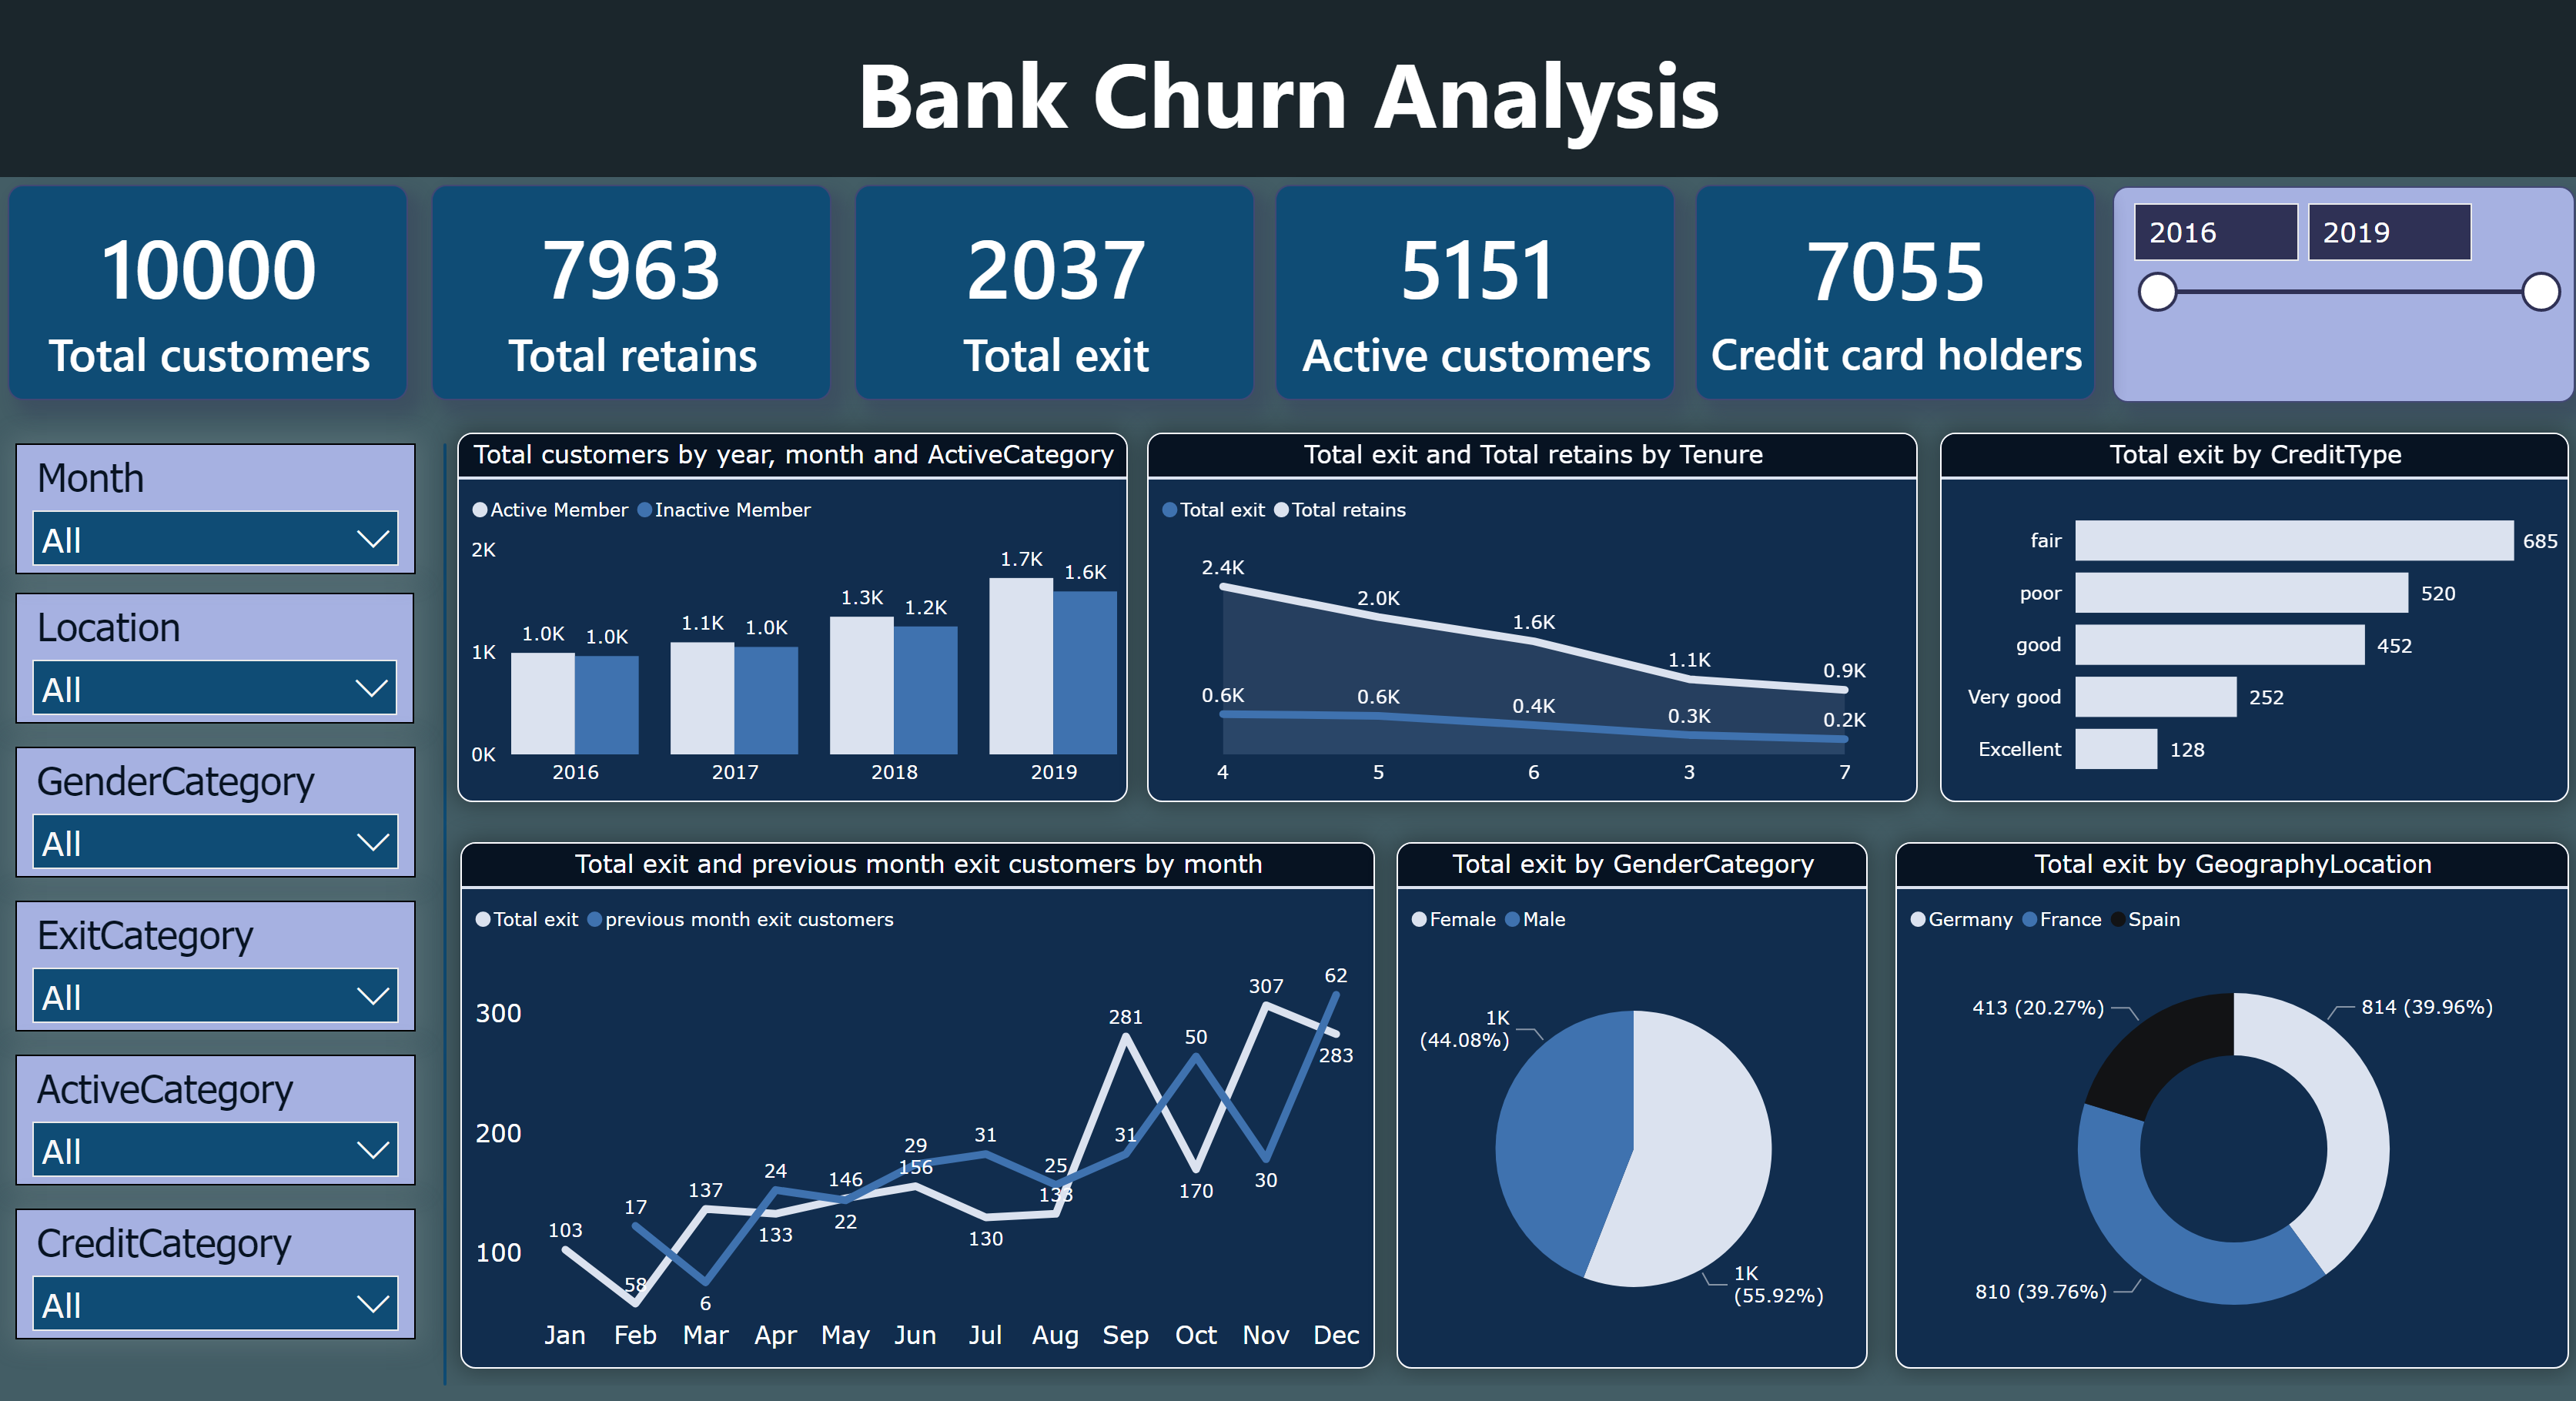

Layout of this report page (visuals, bound fields, positions):
{"tool":"powerbi","page":{"name":"EDA","canvas":[1673,900],"ordinal":0},"visuals":[{"type":"textbox","box":[0,0,1673,115],"z":0},{"type":"shape","box":[280.8,288,16.2,612],"z":1000},{"type":"card","fields":{"Values":["My_measures.Total customers"]},"box":[5,120,260,140],"z":2000},{"type":"slicer","fields":{"Values":["Daaate.year"]},"box":[1371.6,120.6,300.6,140.4],"z":3000},{"type":"card","fields":{"Values":["My_measures.Total retains"]},"box":[280,120,260,140],"z":4000},{"type":"card","fields":{"Values":["My_measures.Total exit"]},"box":[555,120,260,140],"z":5000},{"type":"card","fields":{"Values":["My_measures.Active customers"]},"box":[828,120,260,140],"z":6000},{"type":"slicer","fields":{"Values":["Geography.GeographyLocation"]},"box":[10,385,259,85],"z":7000},{"type":"slicer","fields":{"Values":["ExitCustomer.ExitCategory"]},"box":[10,585,260,85],"z":8000},{"type":"slicer","fields":{"Values":["ActiveCustomer.ActiveCategory"]},"box":[10,685,260,85],"z":9000},{"type":"slicer","fields":{"Values":["Gender.GenderCategory"]},"box":[10,485,260,85],"z":10000},{"type":"slicer","fields":{"Values":["Daaate.month_name"]},"box":[10,288,260,85],"z":11000},{"type":"card","fields":{"Values":["My_measures.Credit card holders"]},"box":[1101,120,260,140],"z":12000},{"type":"clusteredColumnChart","title":"Total customers by year, month and ActiveCategory","fields":{"Y":["My_measures.Total customers"],"Category":["Daaate.year","Daaate.month_name"],"Series":["ActiveCustomer.ActiveCategory"]},"box":[297,280.8,435.6,240],"z":13000},{"type":"lineChart","title":"Total exit and previous month exit customers by month","fields":{"Category":["Daaate.month_name"],"Y":["My_measures.Total exit"],"Y2":["My_measures.previous month exit customers"]},"box":[298.8,547.2,594,342],"z":14000},{"type":"pieChart","fields":{"Y":["My_measures.Total exit"],"Category":["Gender.GenderCategory"]},"box":[907.2,547.2,306,342],"z":15000},{"type":"donutChart","fields":{"Y":["My_measures.Total exit"],"Category":["Geography.GeographyLocation"]},"box":[1231.2,547.2,437.4,342],"z":16000},{"type":"areaChart","fields":{"Category":["Bank_Churn.Tenure"],"Y":["My_measures.Total exit","My_measures.Total retains"]},"box":[745.2,280.8,500.4,240],"z":17000},{"type":"slicer","fields":{"Values":["CreditCard.Category"]},"box":[10,785,260,85],"z":18000},{"type":"clusteredBarChart","fields":{"Category":["Bank_Churn.CreditType"],"Y":["My_measures.Total exit"]},"box":[1260,280.8,408.6,240],"z":19000}]}

Visuals, with their boxes in screenshot pixels (x1, y1, x2, y2), scaled from the page's 1673x900 canvas onto the 2576x1401 screenshot:
textbox: box=[0, 0, 2575, 179]
shape: box=[433, 448, 457, 1400]
card - My_measures.Total customers: box=[8, 187, 408, 405]
slicer - Daaate.year: box=[2112, 188, 2574, 406]
card - My_measures.Total retains: box=[431, 187, 831, 405]
card - My_measures.Total exit: box=[855, 187, 1255, 405]
card - My_measures.Active customers: box=[1275, 187, 1675, 405]
slicer - Geography.GeographyLocation: box=[15, 600, 414, 731]
slicer - ExitCustomer.ExitCategory: box=[15, 911, 416, 1043]
slicer - ActiveCustomer.ActiveCategory: box=[15, 1066, 416, 1199]
slicer - Gender.GenderCategory: box=[15, 755, 416, 888]
slicer - Daaate.month_name: box=[15, 448, 416, 580]
card - My_measures.Credit card holders: box=[1695, 187, 2096, 405]
"Total customers by year, month and ActiveCategory" clusteredColumnChart: box=[457, 437, 1128, 811]
"Total exit and previous month exit customers by month" lineChart: box=[460, 852, 1375, 1384]
pieChart - My_measures.Total exit x Gender.GenderCategory: box=[1397, 852, 1868, 1384]
donutChart - My_measures.Total exit x Geography.GeographyLocation: box=[1895, 852, 2569, 1384]
areaChart - Bank_Churn.Tenure x My_measures.Total exit: box=[1147, 437, 1918, 811]
slicer - CreditCard.Category: box=[15, 1222, 416, 1354]
clusteredBarChart - Bank_Churn.CreditType x My_measures.Total exit: box=[1940, 437, 2569, 811]
